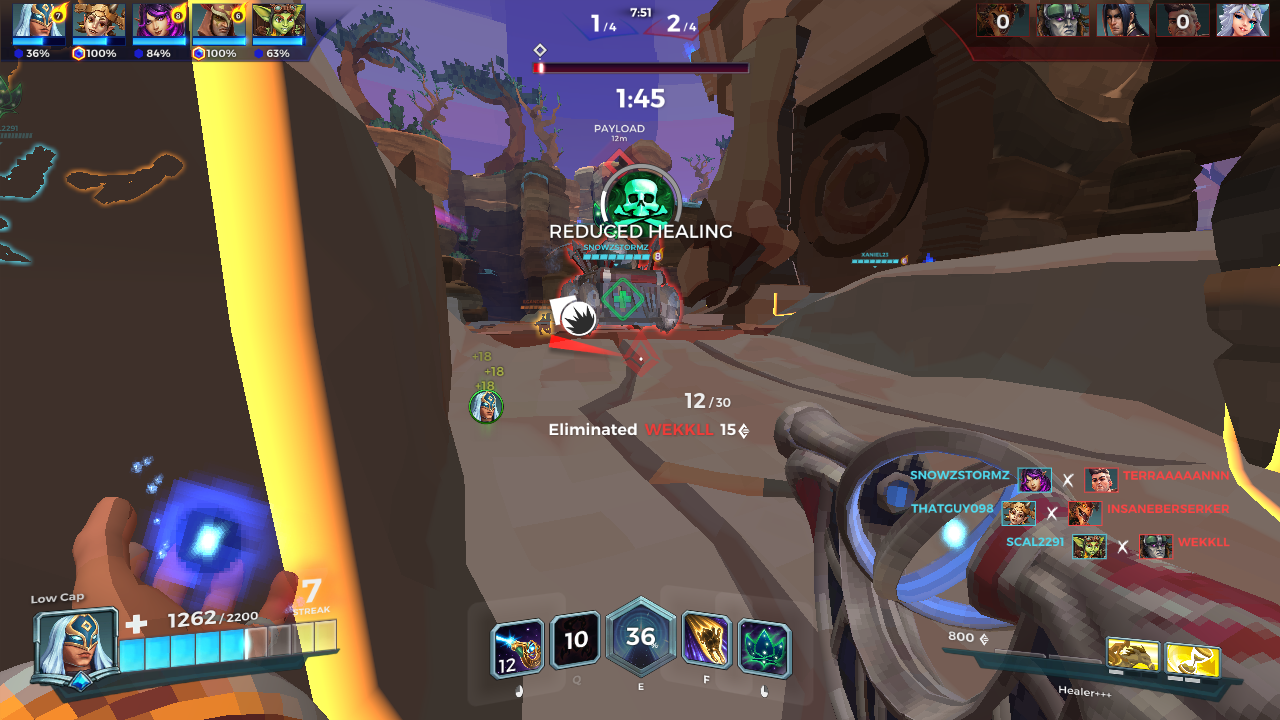model: (531, 312, 557, 341)
